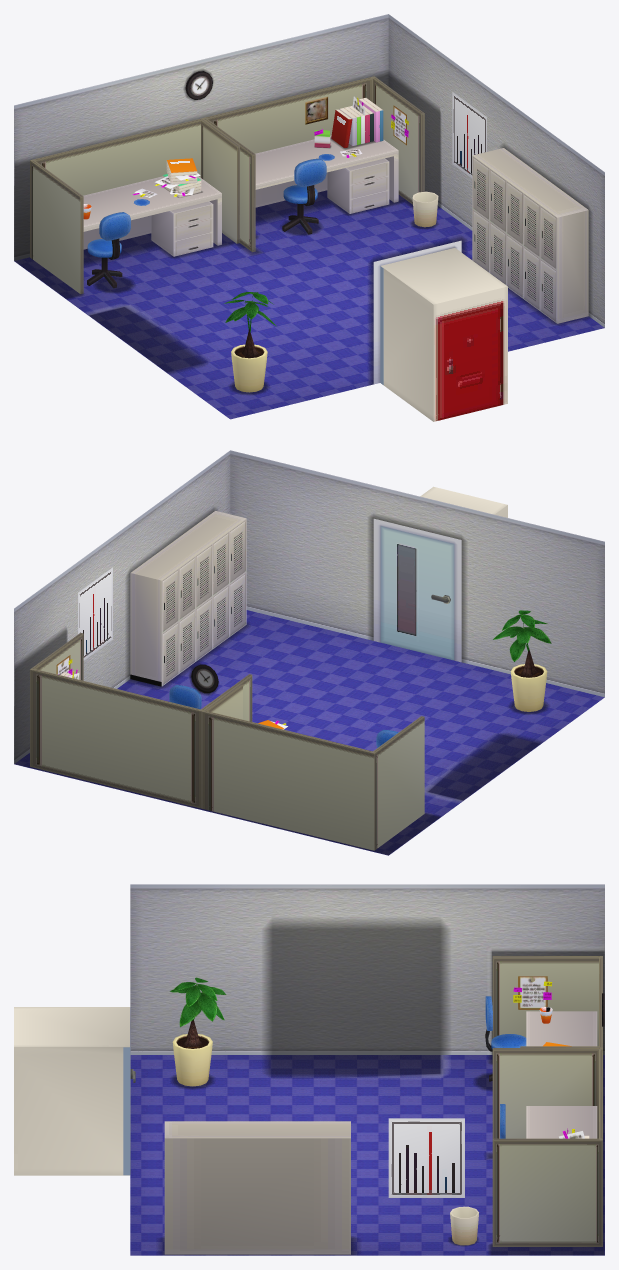
Rendered from office-interior.glb.
3 renders of one model, top to bottom at view 1: azimuth 30°, elevation 25°; view 2: azimuth 150°, elevation 25°; view 3: azimuth 270°, elevation 25°, orthographic. The views are drawn at different scales.
Parts seen in each view (by area): view 1: office:mtRm025Flo00t_mat, office:mtRm025Wal00t_mat, office:mtRmCmnEnt00t_mat, office:mtRm025Cmn01s_z_mat, office:mtRm025Cmn01t1_mat, office:mtRm025Cmn01t_mat, office:mtRm025Fur00t_mat, office:mtRm025Cmn02t_mat, office:mtRm025Fur01t_mat, office:mtRm025Cmn03t_mat, office:mtRm025Cmn04t_mat, office:mtRm025Cmn00t_mat (+9 smaller); view 2: office:mtRm025Wal00t_mat, office:mtRm025Flo00t_mat, office:mtRm025Cmn01t1_mat, office:mtRm025Cmn01t_mat, office:mtRm025Cmn01s_z_mat, office:mtRm025Fur00t_mat, office:mtRm025Dor00t_mat, office:mtRm025Fur01t_mat, office:mtRm025Dor01t_mat, office:mtRm025Wal01t_mat, office:mtRm025Fur41t_mat, office:mtRm025Fur40t_mat (+3 smaller); view 3: office:mtRm025Wal00t_mat, office:mtRm025Flo00t_mat, office:mtRm025Cmn01s_z_mat, office:mtRm025Fur01t_mat, office:mtRm025Cmn01t_mat, office:mtRmCmnEnt00t_mat, office:mtRm025Cmn01t1_mat, office:mtRm025Wal01t_mat, office:mtRm025Cmn02t_mat, office:mtRm025Fur41t_mat, office:mtRm025Fur40t_mat, office:mtRm025Cmn00t_mat (+3 smaller).
Boxes of the visible parts, <box> form: office:mtRm025Flo00t_mat: <box>14,190,604,419</box>; office:mtRm025Wal00t_mat: <box>14,14,604,327</box>; office:mtRmCmnEnt00t_mat: <box>381,248,507,421</box>; office:mtRm025Cmn01s_z_mat: <box>14,69,591,394</box>; office:mtRm025Cmn01t1_mat: <box>30,118,239,294</box>; office:mtRm025Cmn01t_mat: <box>202,76,424,252</box>; office:mtRm025Fur00t_mat: <box>472,156,557,323</box>; office:mtRm025Cmn02t_mat: <box>83,135,398,249</box>; office:mtRm025Fur01t_mat: <box>472,148,588,323</box>; office:mtRm025Cmn03t_mat: <box>151,158,389,256</box>; office:mtRm025Cmn04t_mat: <box>87,154,334,257</box>; office:mtRm025Cmn00t_mat: <box>133,96,408,197</box>; office:mtRm025Wal00t_mat: <box>14,450,604,763</box>; office:mtRm025Flo00t_mat: <box>14,610,604,855</box>; office:mtRm025Cmn01t1_mat: <box>202,684,424,850</box>; office:mtRm025Cmn01t_mat: <box>30,633,252,808</box>; office:mtRm025Cmn01s_z_mat: <box>14,508,549,855</box>; office:mtRm025Fur00t_mat: <box>161,519,246,686</box>; office:mtRm025Dor00t_mat: <box>380,526,454,660</box>; office:mtRm025Fur01t_mat: <box>130,511,246,686</box>; office:mtRm025Dor01t_mat: <box>373,518,461,662</box>; office:mtRm025Wal01t_mat: <box>78,567,112,660</box>; office:mtRm025Fur41t_mat: <box>510,623,547,711</box>; office:mtRm025Fur40t_mat: <box>493,610,551,661</box>; office:mtRm025Wal00t_mat: <box>130,884,604,1054</box>; office:mtRm025Flo00t_mat: <box>130,1055,604,1255</box>; office:mtRm025Cmn01s_z_mat: <box>159,920,604,1255</box>; office:mtRm025Fur01t_mat: <box>164,1121,350,1254</box>; office:mtRm025Cmn01t_mat: <box>492,1048,602,1246</box>; office:mtRmCmnEnt00t_mat: <box>14,1007,129,1175</box>; office:mtRm025Cmn01t1_mat: <box>492,956,602,1047</box>; office:mtRm025Wal01t_mat: <box>388,1118,464,1197</box>; office:mtRm025Cmn02t_mat: <box>526,1011,597,1138</box>; office:mtRm025Fur41t_mat: <box>172,1018,212,1086</box>; office:mtRm025Fur40t_mat: <box>169,977,226,1027</box>; office:mtRm025Cmn00t_mat: <box>513,976,584,1138</box>.
Size of the model in its own units: 6.8 by 2.71 by 8.47.
25 materials, 24 textured.
